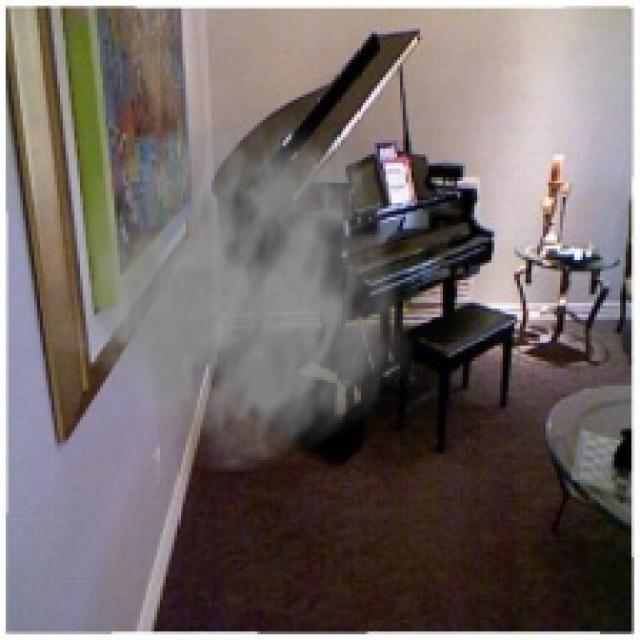smoke: (52, 72, 414, 474)
